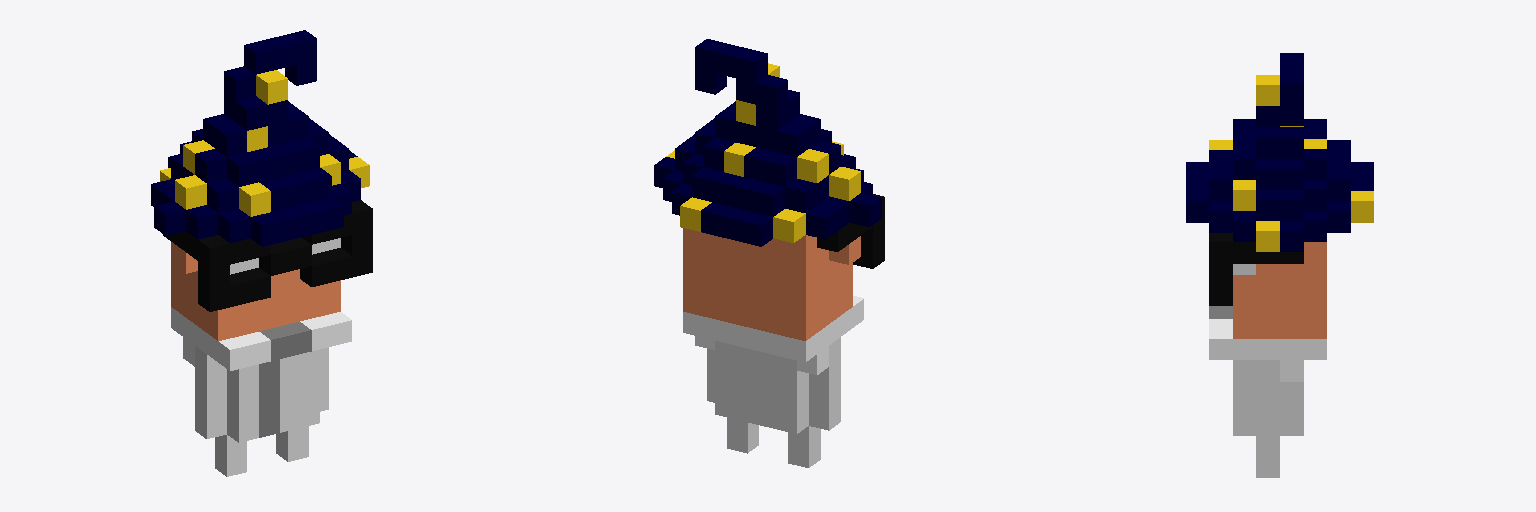
3 renders of one model, left to right at view 1: azimuth 30°, elevation 25°; view 2: azimuth 150°, elevation 25°; view 3: azimuth 270°, elevation 25°, orthographic.
Visible parts, largest first — view 1: object 1; view 2: object 1; view 3: object 1.
Boxes of the visible parts, box(x1,y1,x2,y2) form: object 1: box(151, 30, 372, 476); object 1: box(654, 39, 884, 467); object 1: box(1186, 53, 1373, 477).
Bounding box in the file's own units: 1 × 1.9 × 0.8.
1 materials, 1 textured.